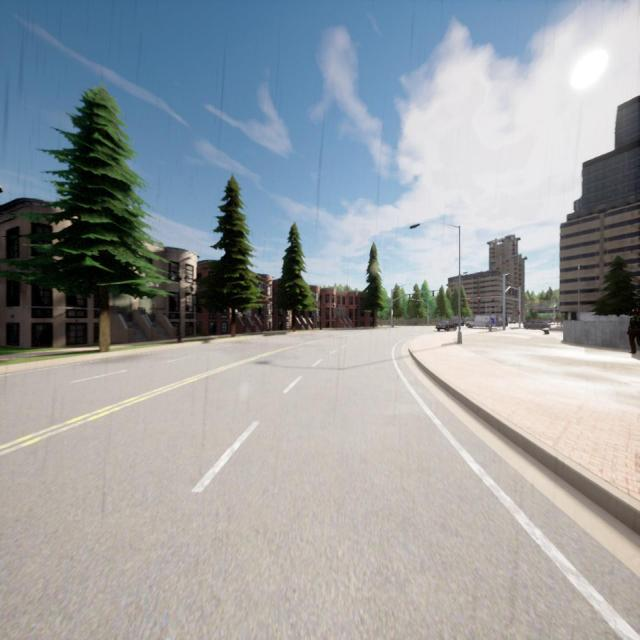Pedestrian: (627, 307, 639, 355)
Vehicle: (465, 313, 496, 328), (435, 318, 458, 332), (524, 319, 551, 329)
traffic_light: (512, 288, 514, 294), (492, 296, 494, 301), (518, 310, 520, 314), (478, 298, 480, 302), (515, 290, 517, 294), (409, 294, 410, 299), (433, 291, 434, 296), (468, 299, 469, 303), (510, 288, 510, 294), (422, 292, 422, 296)
